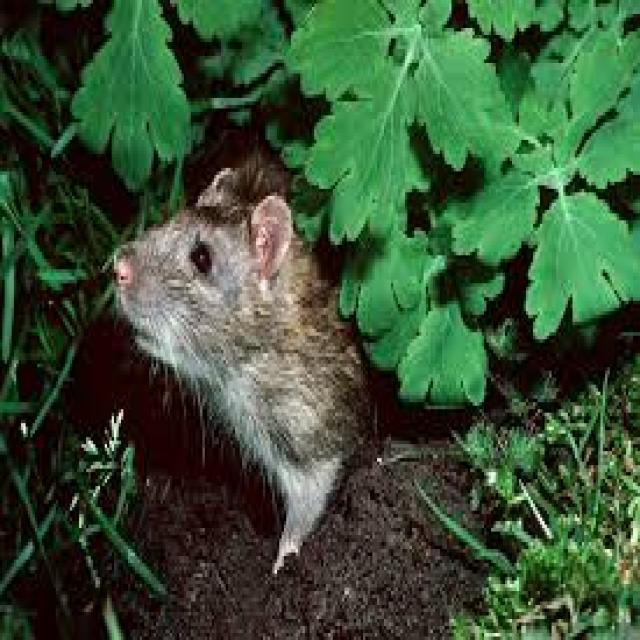rat: (100, 143, 377, 577)
